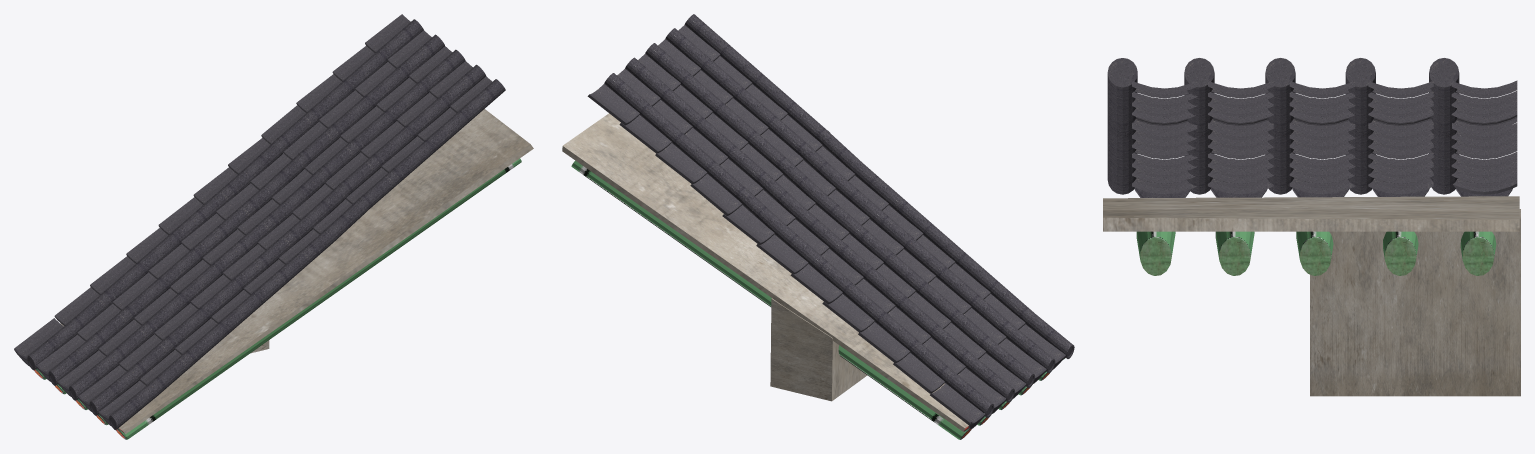
The model's file is SM_Roof_17.fbx.
The picture shows the model from 3 angles, left to right: view 1: azimuth 30°, elevation 25°; view 2: azimuth 150°, elevation 25°; view 3: azimuth 270°, elevation 25°; orthographic projection. The views are drawn at different scales.
Parts seen in each view (by area): view 1: SM_Roof_17; view 2: SM_Roof_17; view 3: SM_Roof_17.
Part boxes in pixels (x1,y1,x2,y2): SM_Roof_17: [14, 14, 533, 439]; SM_Roof_17: [562, 14, 1074, 439]; SM_Roof_17: [1103, 58, 1520, 396].
Size of the model in its own units: 478 by 211 by 303.
Materials: 5 (5 with a texture image).
